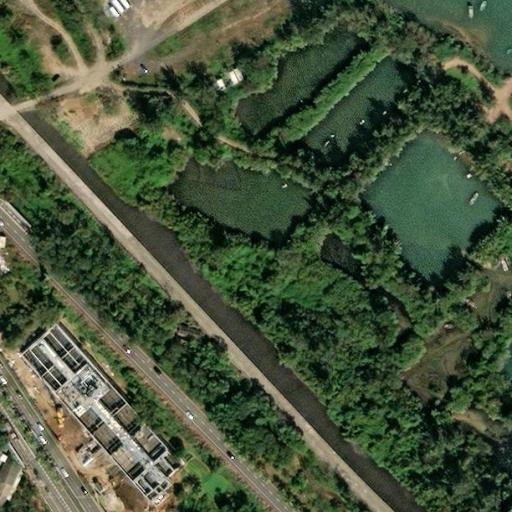building: (12, 325, 175, 497), (68, 438, 101, 471), (139, 479, 167, 506)
